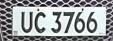3: (48, 9, 64, 36)
6: (85, 8, 99, 37), (74, 9, 87, 36)
7: (61, 10, 75, 36)
C: (33, 9, 48, 36)
U: (21, 9, 34, 36)
